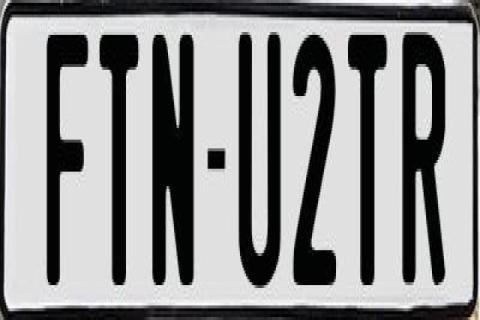0: (290, 29, 338, 282)
F: (47, 29, 94, 288)
N: (152, 32, 198, 300)
R: (400, 26, 444, 282)
T: (98, 29, 144, 285), (346, 35, 388, 285)
U: (236, 24, 282, 294)
